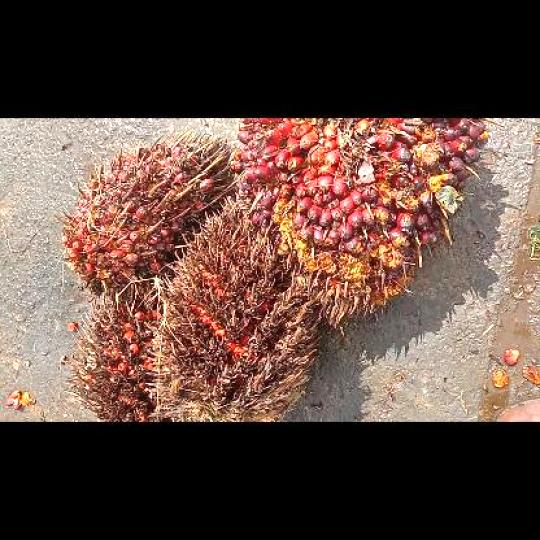masak: (230, 118, 489, 332), (55, 129, 241, 310)
terlalu masak: (141, 194, 321, 420), (63, 293, 163, 421)
